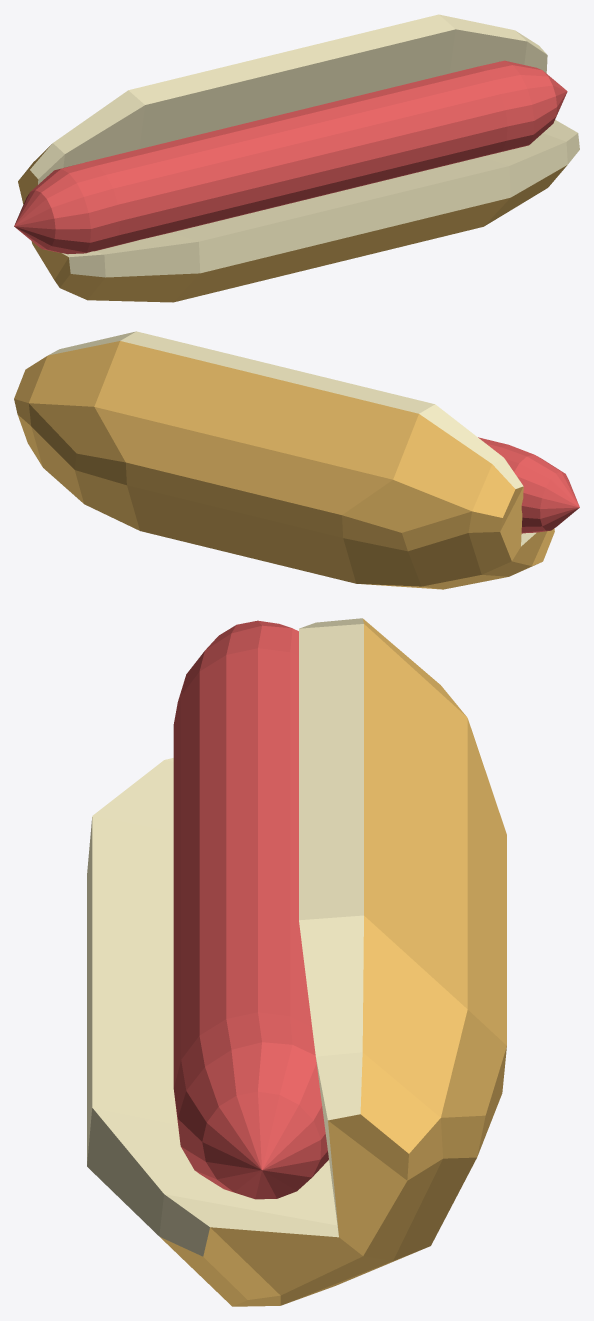
File: Hotdog in Bun.fbx
3 renders of one model, top to bottom at view 1: azimuth 30°, elevation 25°; view 2: azimuth 150°, elevation 25°; view 3: azimuth 270°, elevation 25°, orthographic. The views are drawn at different scales.
Parts seen in each view (by area): view 1: Hotdog in Bun; view 2: Hotdog in Bun; view 3: Hotdog in Bun.
Boxes of the visible parts, x1=… form: Hotdog in Bun: x1=14, y1=14, x2=579, y2=302; Hotdog in Bun: x1=14, y1=331, x2=579, y2=589; Hotdog in Bun: x1=87, y1=618, x2=506, y2=1306.
Size of the model in its own units: 24.9 by 8.5 by 8.5.
